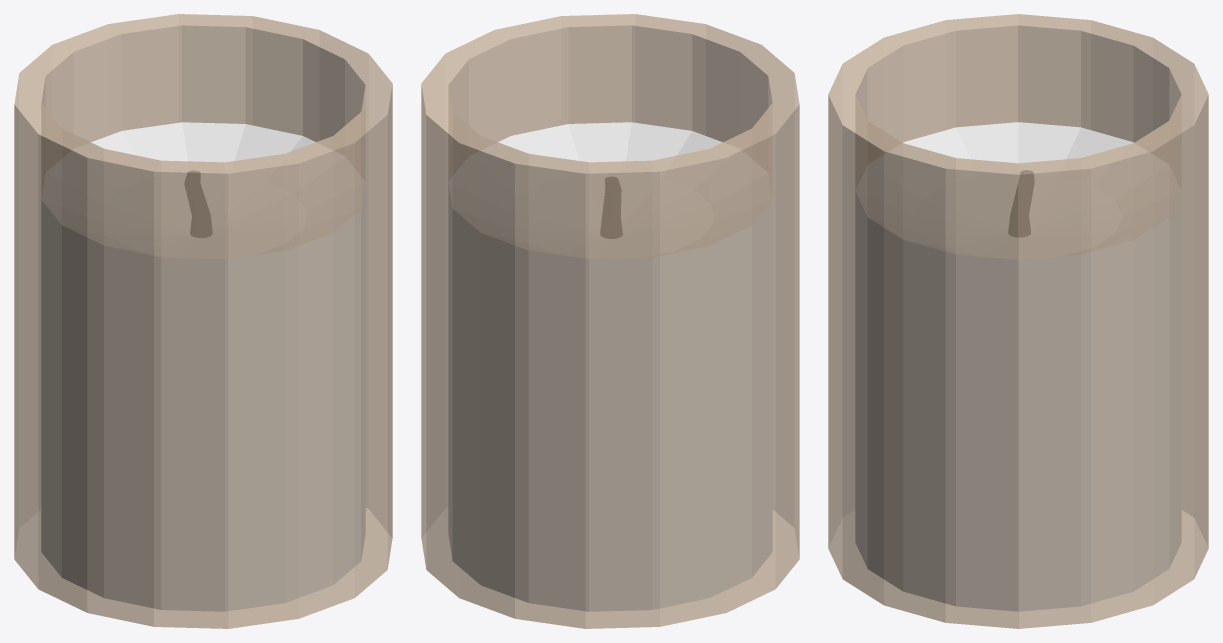
File: Candle1.1.fbx
The picture shows the model from 3 angles, left to right: view 1: azimuth 30°, elevation 25°; view 2: azimuth 150°, elevation 25°; view 3: azimuth 270°, elevation 25°; orthographic projection.
Visible parts, largest first — view 1: Candle1.1; view 2: Candle1.1; view 3: Candle1.1.
Part boxes in pixels (x1=…): Candle1.1: x1=14, y1=14, x2=392, y2=628; Candle1.1: x1=421, y1=14, x2=799, y2=628; Candle1.1: x1=828, y1=14, x2=1208, y2=628.
Size of the model in its own units: 22.45 by 29.57 by 22.45.
